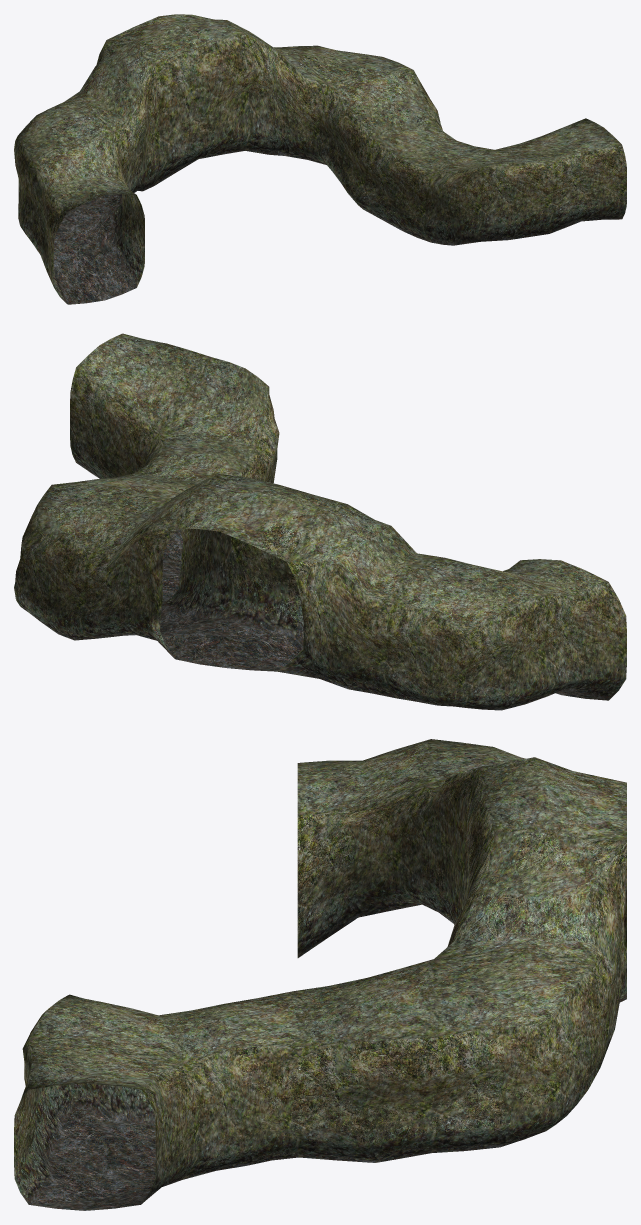
File: thm_all_cave_s03_damprock_r25_r25.fbx
The picture shows the model from 3 angles, top to bottom: view 1: azimuth 30°, elevation 25°; view 2: azimuth 150°, elevation 25°; view 3: azimuth 270°, elevation 25°; orthographic projection. The views are drawn at different scales.
Visible parts, largest first — view 1: mesh_node; view 2: mesh_node; view 3: mesh_node.
Part boxes in pixels (x1,y1,x2,y2): mesh_node: (14, 14, 626, 304); mesh_node: (14, 333, 626, 710); mesh_node: (14, 739, 626, 1210).
Size of the model in its own units: 48.48 by 17.17 by 34.59.
